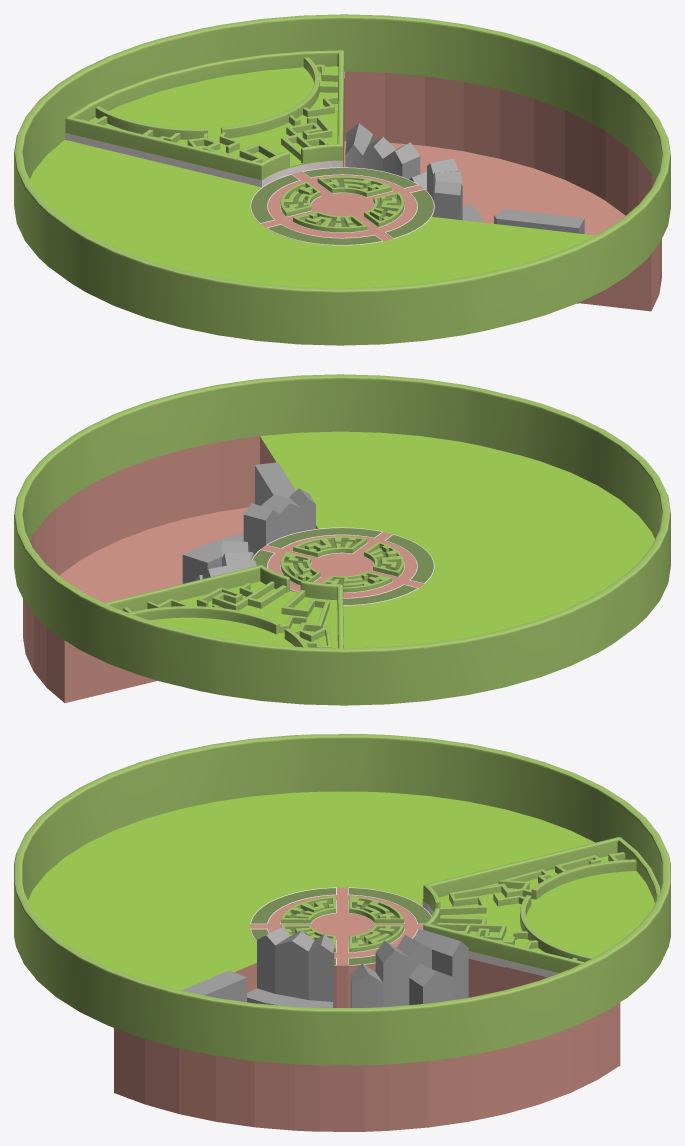
Rendered from Level.fbx.
3 views of the same model, one above another, from view 1: azimuth 30°, elevation 25°; view 2: azimuth 150°, elevation 25°; view 3: azimuth 270°, elevation 25° (orthographic).
Visible parts, largest first — view 1: OuterHedge, Level2_Floor_Walls, Level1Floor, polySurface1, ExitFloor, polySurface2, InnerHedge, Hub:Hedges, Hub:BrickPaths, Hub:Inner_Grass, Building2, Building1 (+2 smaller); view 2: OuterHedge, ExitFloor, Level2_Floor_Walls, Level1Floor, InnerHedge, polySurface1, polySurface2, Hub:Hedges, Hub:BrickPaths, Building1, Hub:Inner_Grass, Building3 (+2 smaller); view 3: OuterHedge, Level2_Floor_Walls, Level1Floor, ExitFloor, polySurface1, Building2, InnerHedge, polySurface2, Building1, Hub:Hedges, Hub:BrickPaths, Hub:Inner_Grass (+2 smaller).
Boxes of the visible parts, box(x1,y1,x2,y2) form: OuterHedge: box(14, 14, 670, 345); Level2_Floor_Walls: box(343, 71, 661, 311); Level1Floor: box(30, 140, 318, 286); polySurface1: box(65, 66, 343, 187); ExitFloor: box(292, 217, 595, 288); polySurface2: box(65, 50, 344, 178); InnerHedge: box(82, 57, 338, 162); Hub:Hedges: box(280, 176, 404, 232); Hub:BrickPaths: box(261, 172, 423, 241); Hub:Inner_Grass: box(251, 168, 433, 244); Building2: box(345, 123, 426, 190); Building1: box(427, 158, 482, 222); OuterHedge: box(14, 374, 670, 705); ExitFloor: box(260, 431, 650, 556); Level2_Floor_Walls: box(23, 436, 317, 702); Level1Floor: box(343, 531, 654, 648); InnerHedge: box(123, 581, 331, 647); polySurface1: box(144, 581, 337, 648); polySurface2: box(104, 565, 343, 648); Hub:Hedges: box(280, 536, 403, 592); Hub:BrickPaths: box(260, 532, 423, 597); Building1: box(243, 488, 315, 553); Hub:Inner_Grass: box(252, 528, 433, 604); Building3: box(182, 462, 295, 583); OuterHedge: box(14, 734, 670, 1065); Level2_Floor_Walls: box(114, 958, 620, 1131); Level1Floor: box(114, 791, 594, 906); ExitFloor: box(28, 830, 275, 990); polySurface1: box(422, 856, 654, 977); Building2: box(350, 928, 468, 1007); InnerHedge: box(437, 852, 636, 962); polySurface2: box(423, 837, 660, 972); Building1: box(247, 927, 334, 1007); Hub:Hedges: box(281, 896, 403, 952); Hub:BrickPaths: box(250, 887, 423, 965); Hub:Inner_Grass: box(251, 888, 430, 964).
Size of the model in its own units: 238 by 50.78 by 238.
